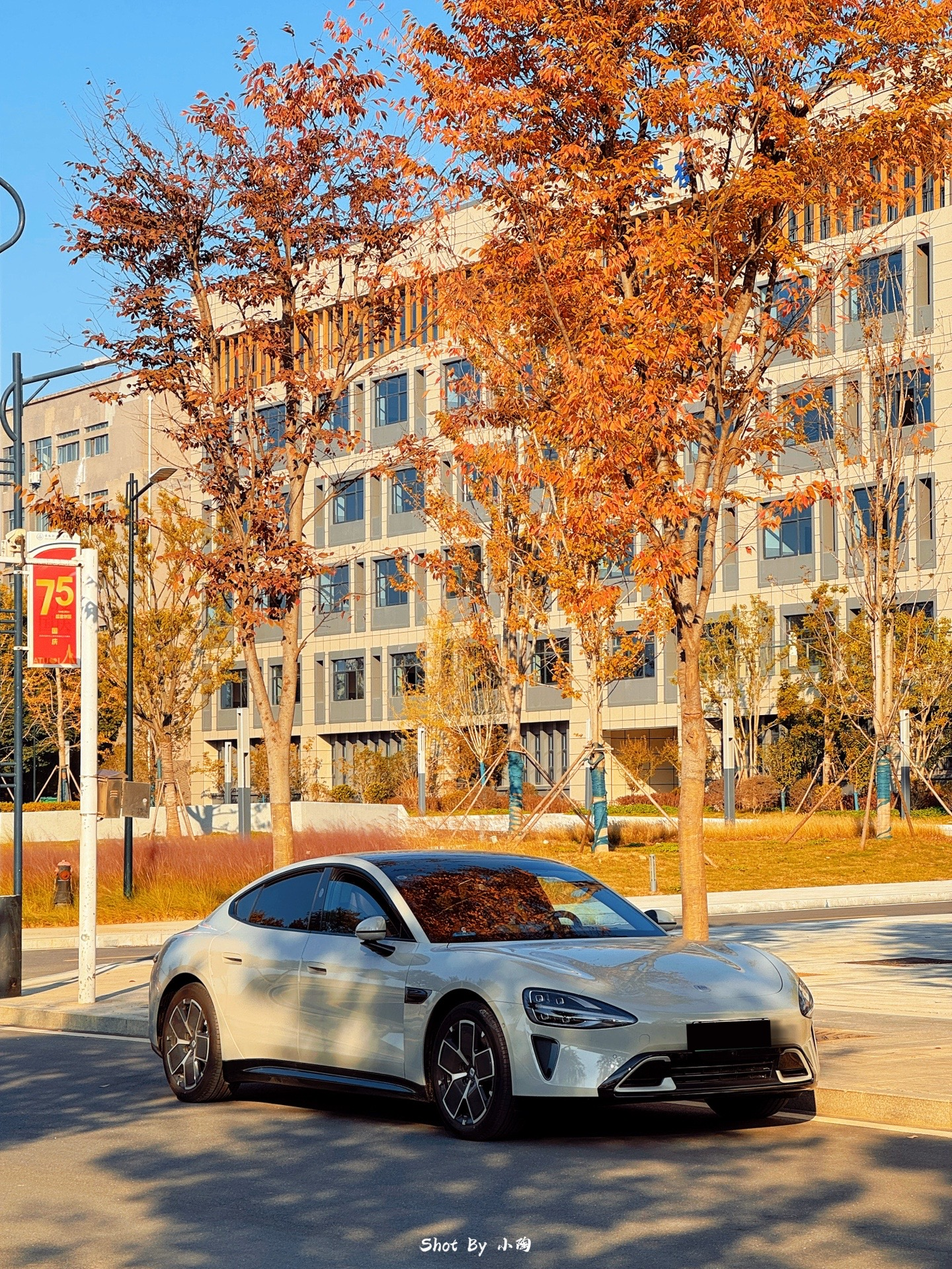su7: (157, 855, 826, 1140)
